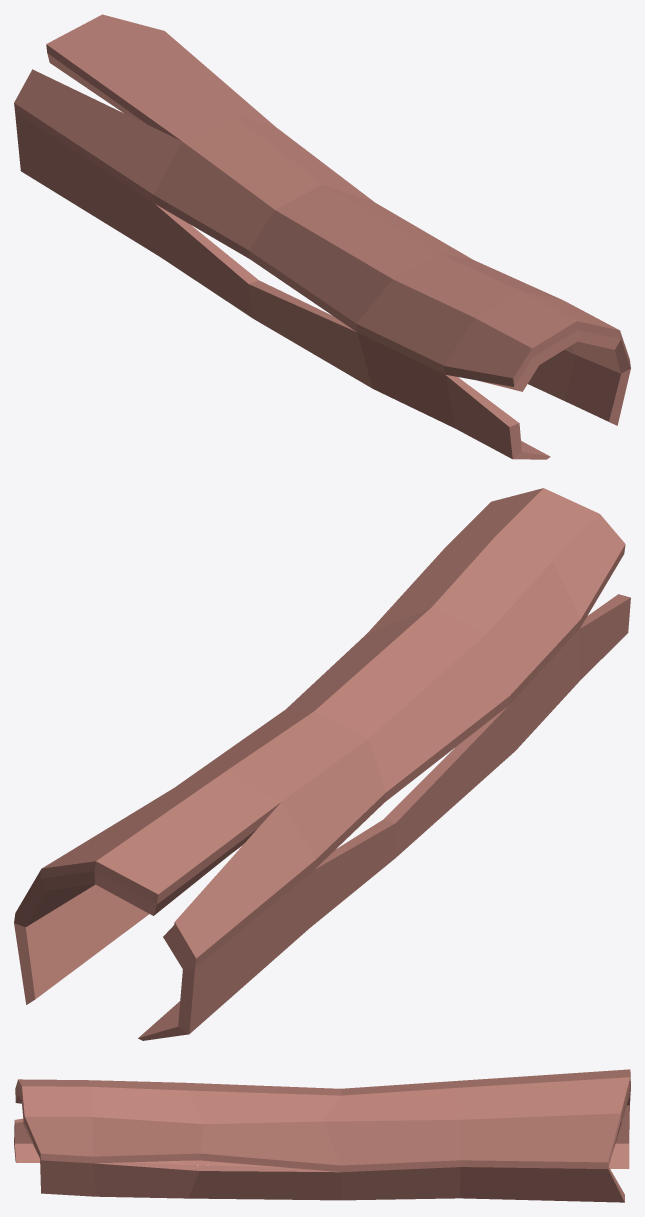
File: wood.glb
3 views of the same model, one above another, from view 1: azimuth 30°, elevation 25°; view 2: azimuth 150°, elevation 25°; view 3: azimuth 270°, elevation 25° (orthographic). The views are drawn at different scales.
Parts seen in each view (by area): view 1: WoodLog_Snow; view 2: WoodLog_Snow; view 3: WoodLog_Snow.
Boxes of the visible parts, x1,y1,x2,y2 form: WoodLog_Snow: [14, 14, 630, 459]; WoodLog_Snow: [14, 488, 630, 1040]; WoodLog_Snow: [14, 1069, 630, 1202].
Bounding box in the file's own units: 1.46 × 1.13 × 5.81.
